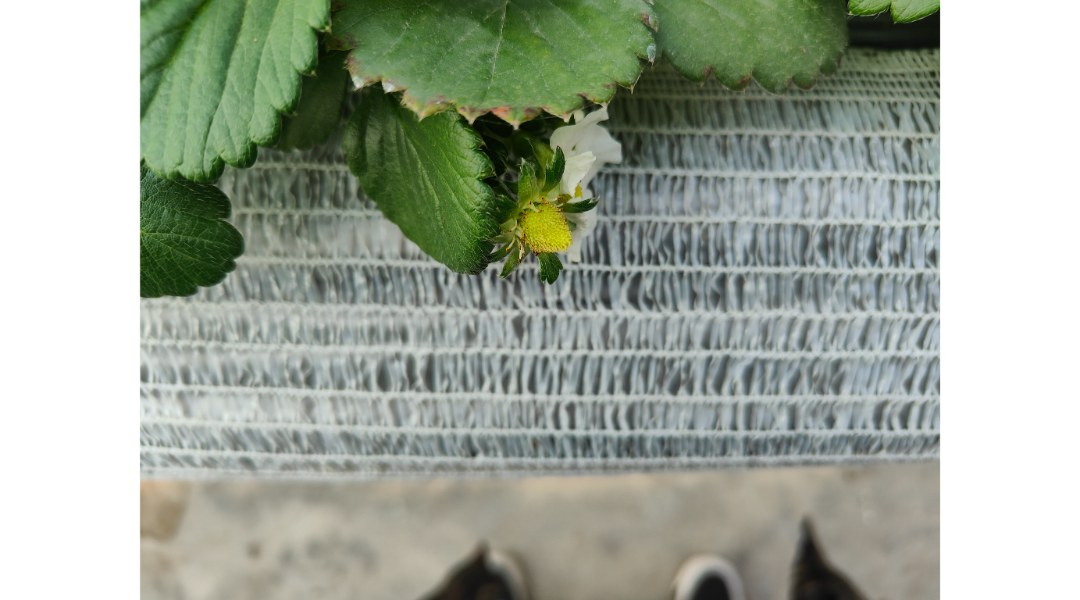berry: (499, 155, 582, 275)
